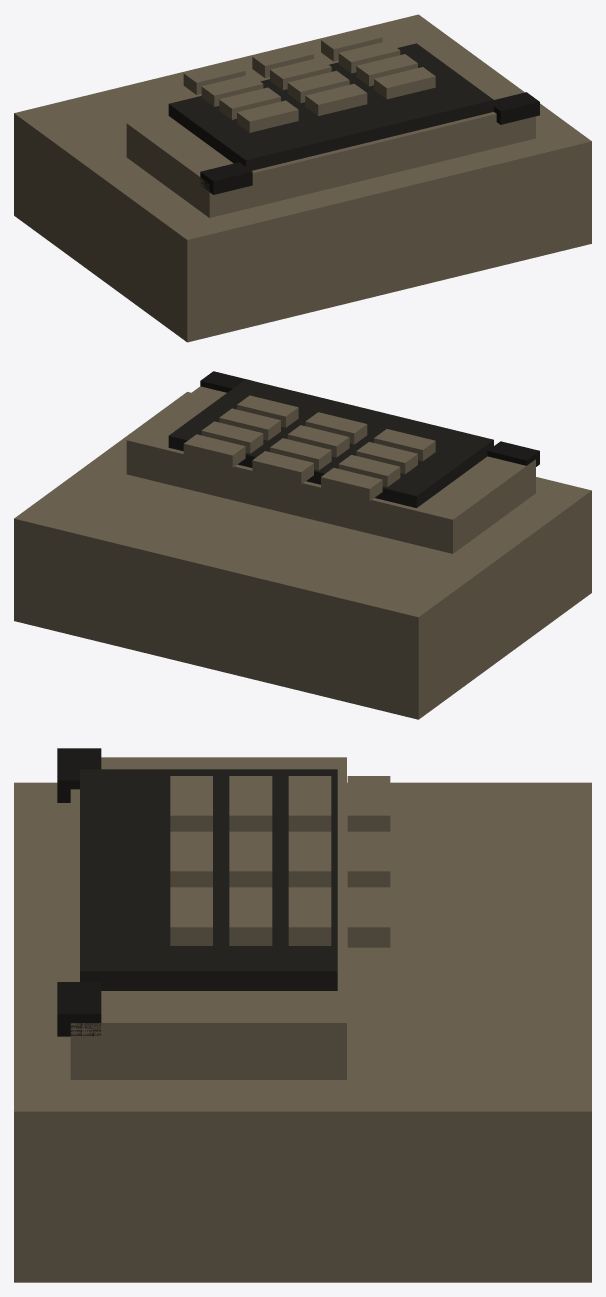
The model's file is telefono_fijo_base_98.obj.
3 views of the same model, one above another, from view 1: azimuth 30°, elevation 25°; view 2: azimuth 150°, elevation 25°; view 3: azimuth 270°, elevation 25° (orthographic). The views are drawn at different scales.
Visible parts, largest first — view 1: telefono_fijo_base_98; view 2: telefono_fijo_base_98; view 3: telefono_fijo_base_98.
Part boxes in pixels (<box>): telefono_fijo_base_98: <box>14,14,591,342</box>; telefono_fijo_base_98: <box>14,371,591,719</box>; telefono_fijo_base_98: <box>14,748,591,1282</box>.
Bounding box in the file's own units: 0.62 × 0.234 × 0.46.
